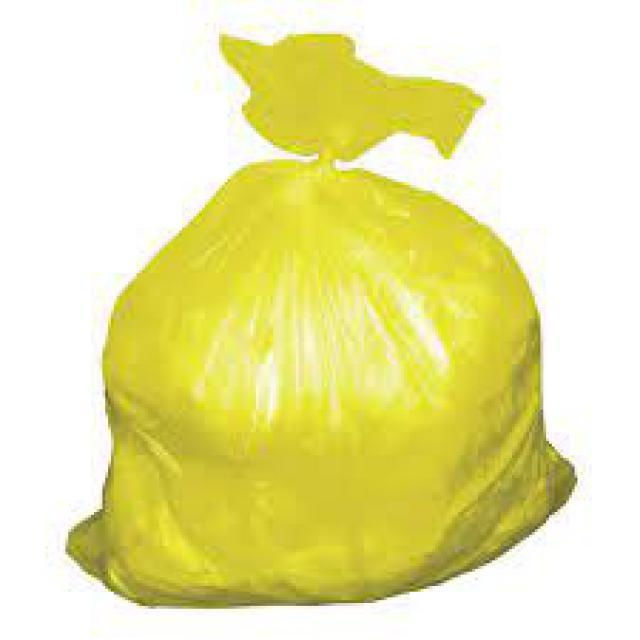waste: (61, 21, 578, 596)
